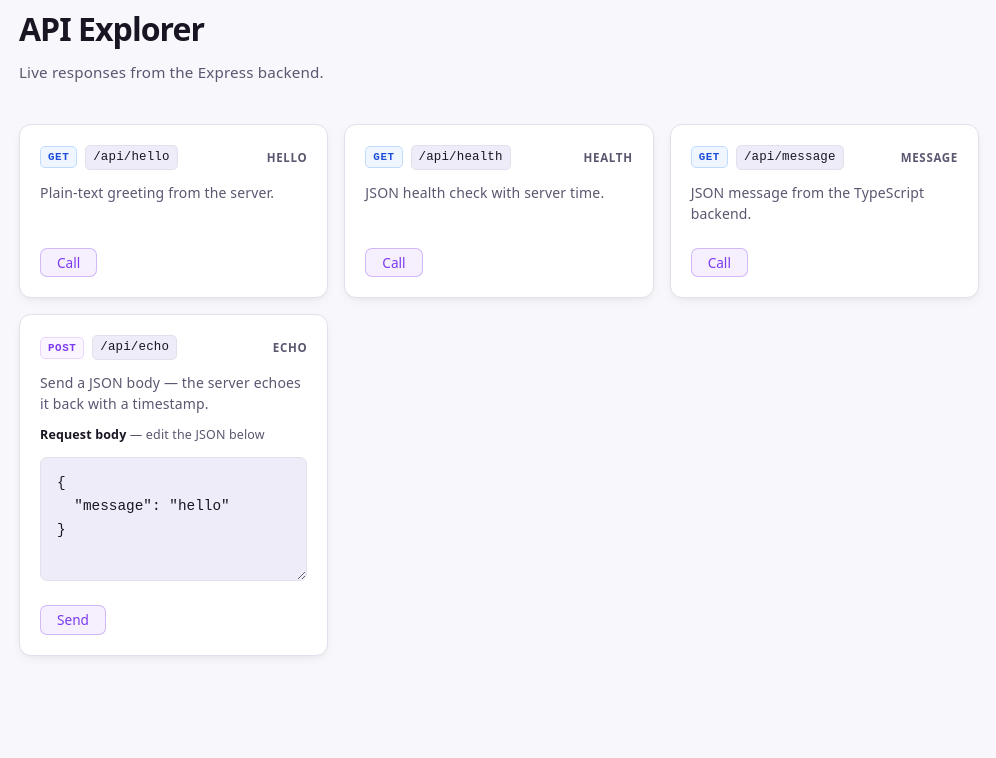
Test: EchoCard interaction › shows an error when Send is clicked with invalid JSON
Replace the text in the text box named "request body" with "not valid json": (174, 519) [40,457,307,581]
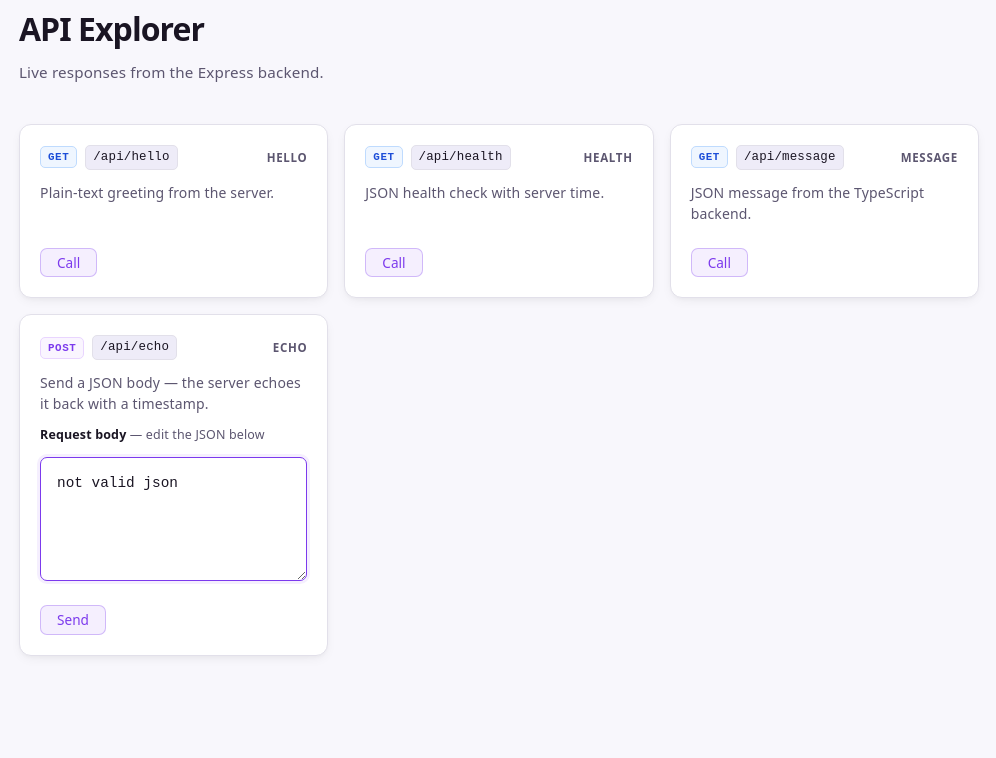
Click the button "Send": (73, 620) [40,605,106,635]
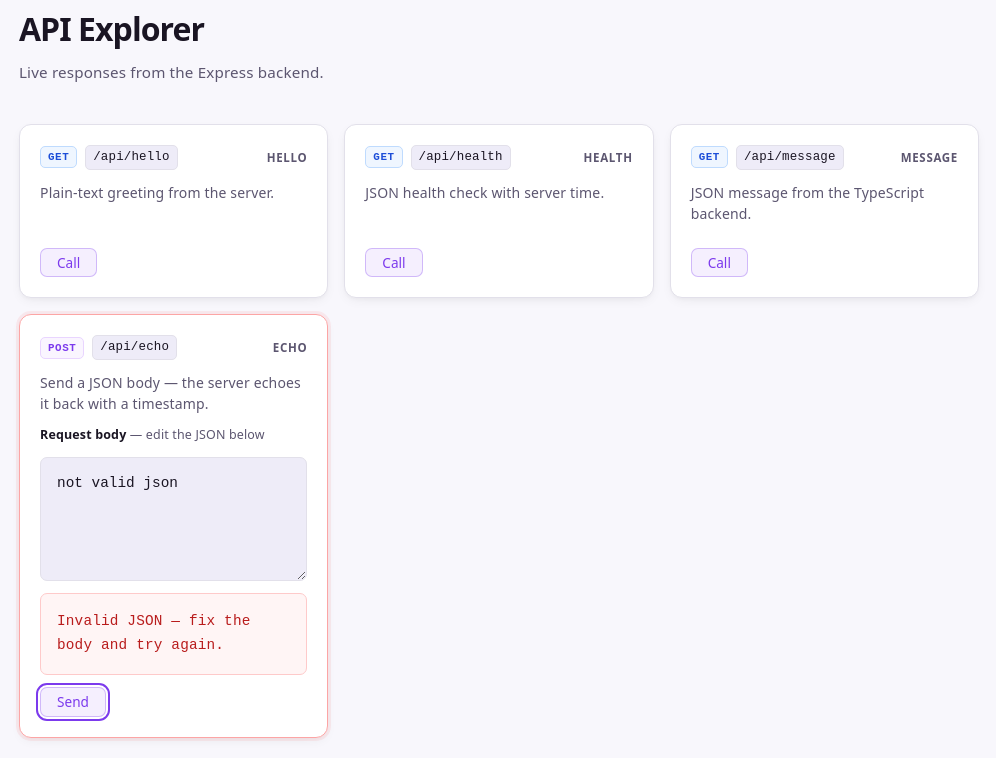
Result: the text "Invalid JSON — fix the body and try again." is shown at [40,593,307,674]
